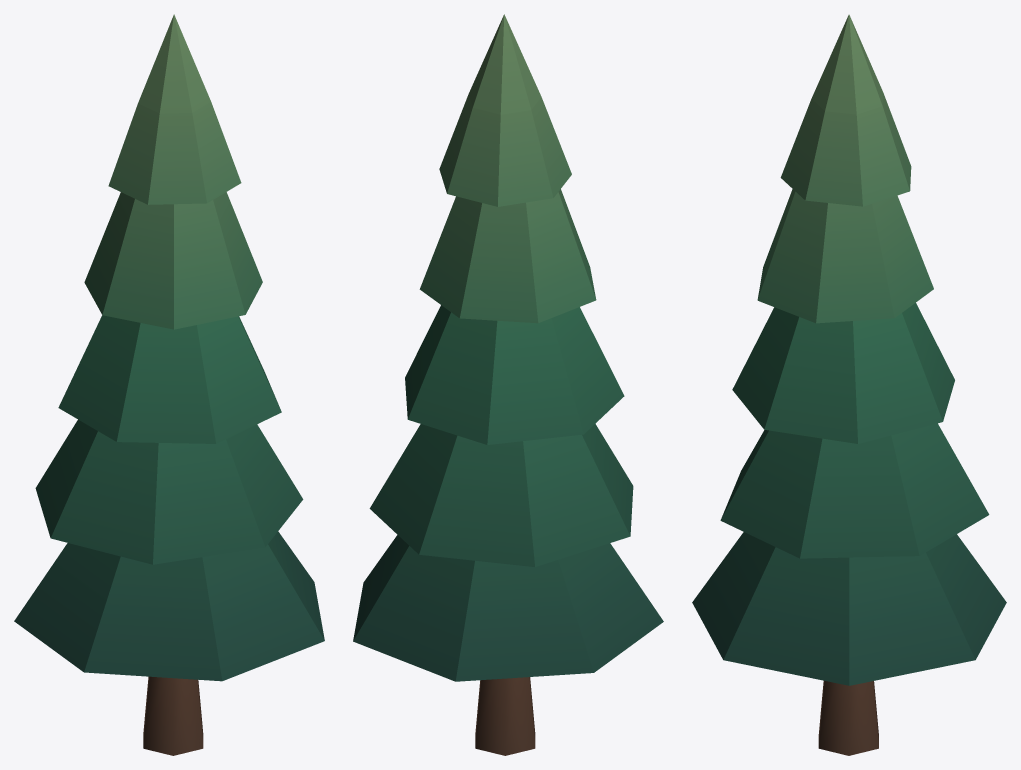
File: tree_pine_a.glb
3 views of the same model, side by side, from view 1: azimuth 30°, elevation 25°; view 2: azimuth 150°, elevation 25°; view 3: azimuth 270°, elevation 25° (orthographic).
Parts seen in each view (by area): view 1: tree_pine_a; view 2: tree_pine_a; view 3: tree_pine_a.
Part boxes in pixels (left/top/right/bottom): tree_pine_a: left=14, top=14, right=324, bottom=755; tree_pine_a: left=353, top=14, right=663, bottom=755; tree_pine_a: left=692, top=14, right=1006, bottom=755.
Size of the model in its own units: 12.17 by 31.84 by 12.48.
1 material, 1 textured.
